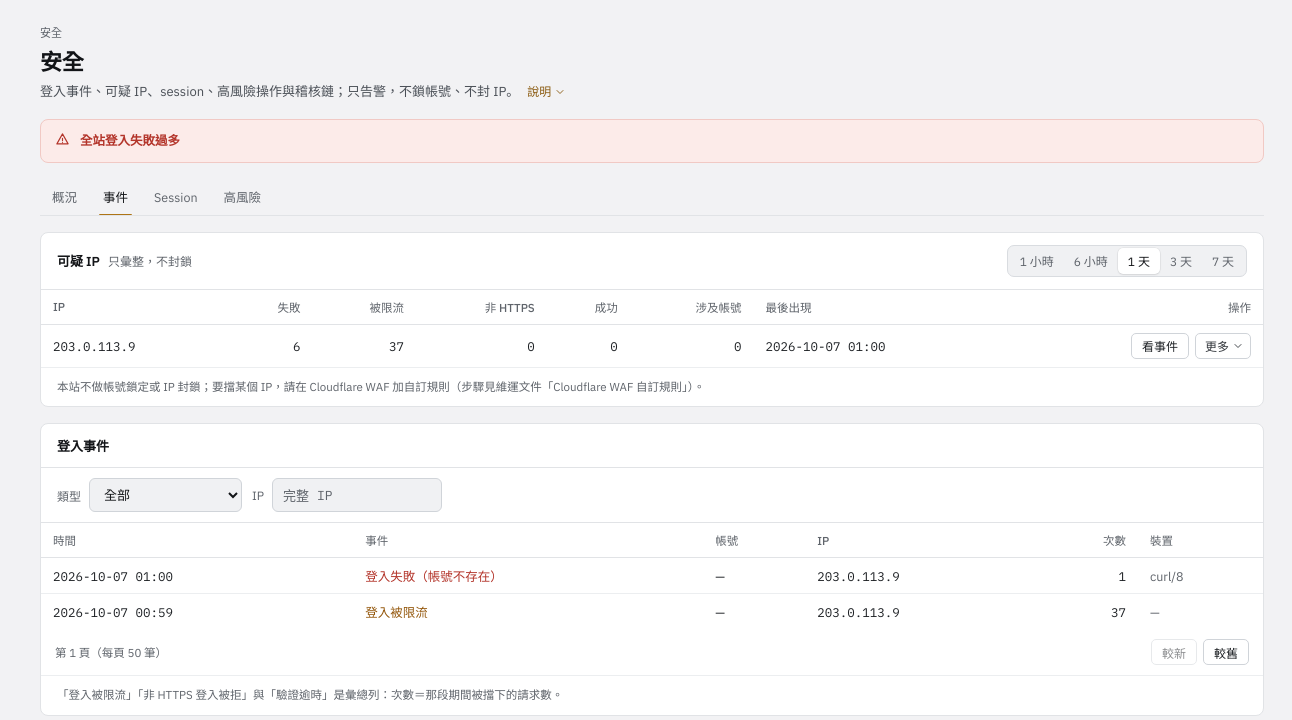
Test case: 可疑 IP 的「看事件」把 IP 放進 URL 與登入事件的篩選標籤，可清除；翻頁回到第一頁
Click the button "較舊": (1226,652) [1203,639,1249,665]
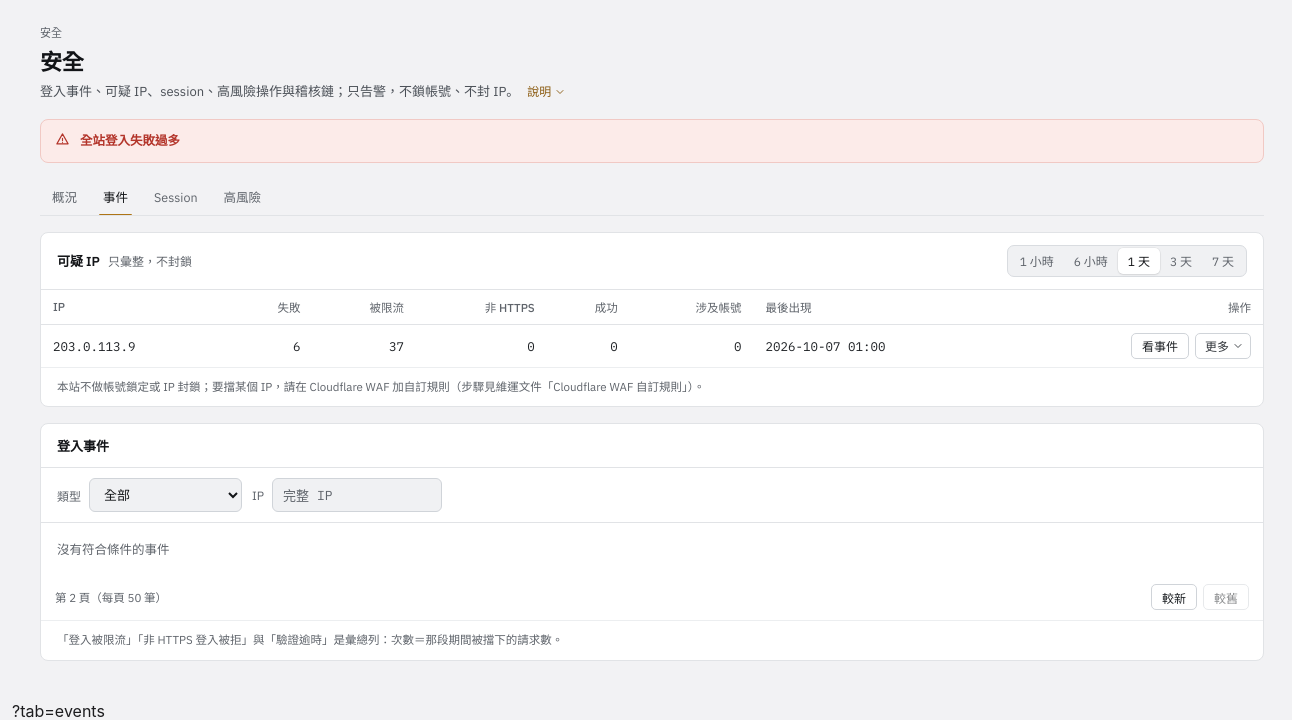
expect the text "沒有符合條件的事件" is shown: met, box [57,541,170,557]
Click the button "看事件": (1160,346) [1131,333,1189,359]
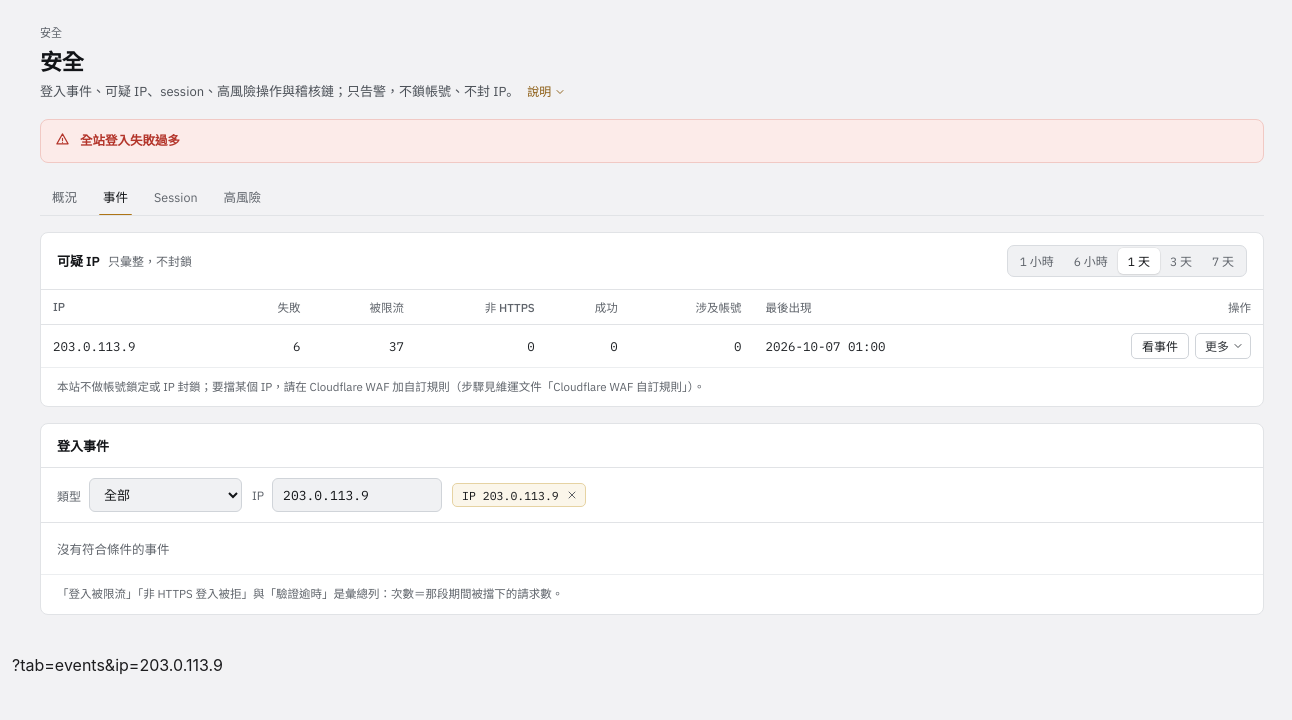
expect the text with test id "where" reads "?tab=events&ip=203.0.113.9": met, box [12,655,223,675]
expect the field labelled "IP" holds "203.0.113.9": met, box [272,478,442,512]
expect the text "IP 203.0.113.9" is shown: met, box [452,483,586,507]
Click the button named "清除 IP 篩選": (572,495) [563,486,581,504]
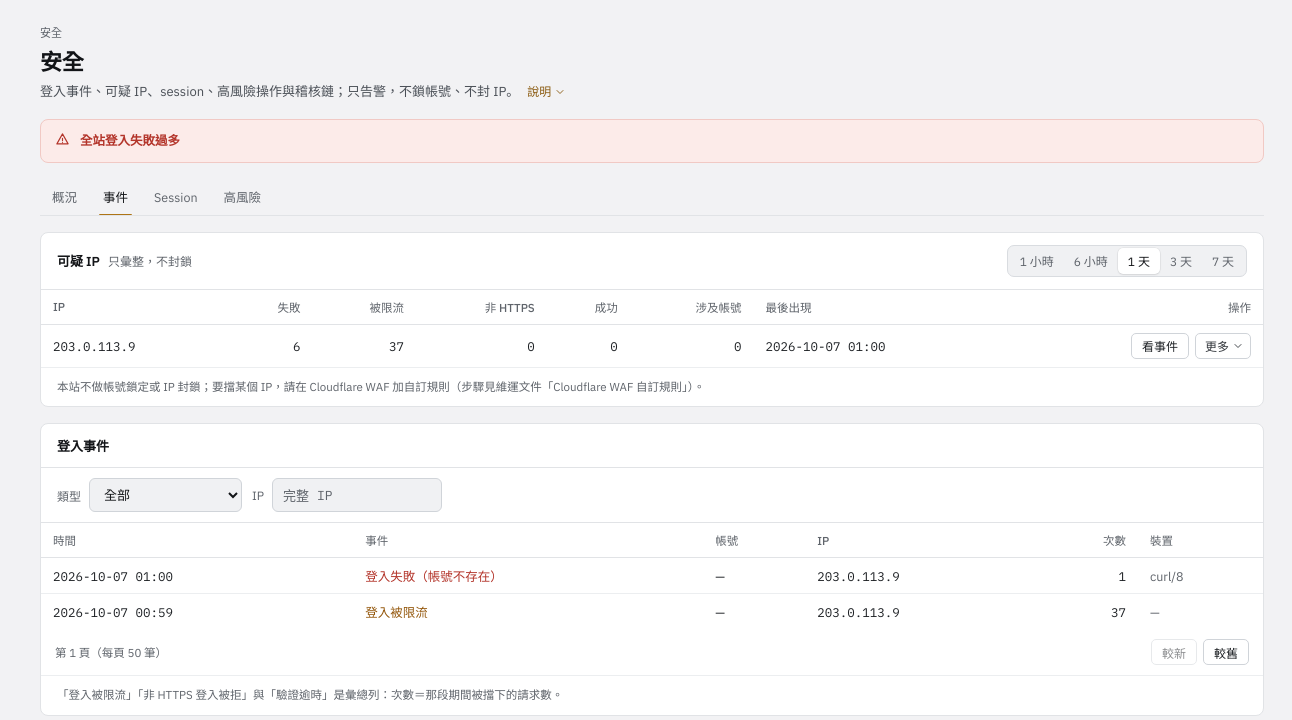
expect the field labelled "IP" is empty: met, box [272,478,442,512]
expect the text "IP 203.0.113.9" is gone: met
